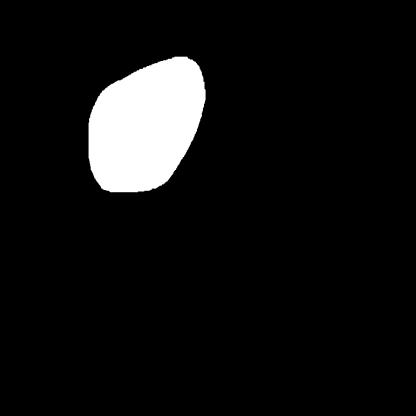benign: (73, 47, 226, 212)
